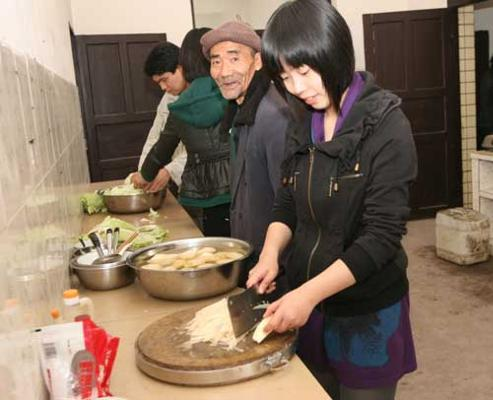person: (247, 2, 419, 400)
